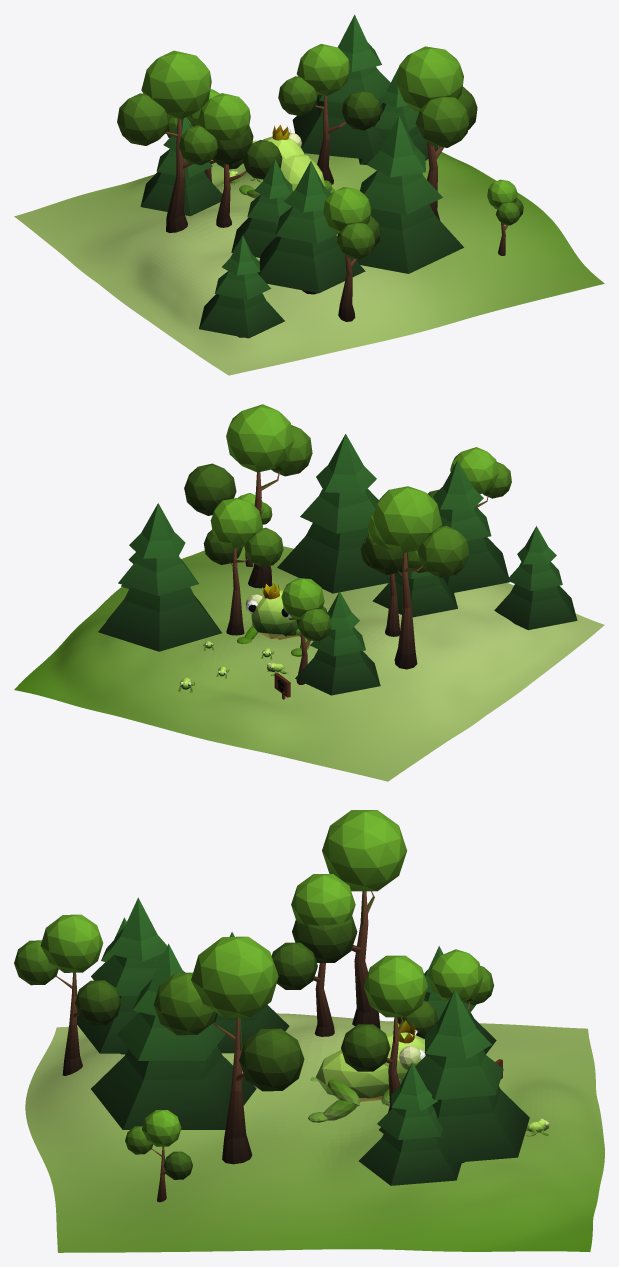
The model's file is lowpolytree.gltf.
The picture shows the model from 3 angles, top to bottom: view 1: azimuth 30°, elevation 25°; view 2: azimuth 150°, elevation 25°; view 3: azimuth 270°, elevation 25°; orthographic projection. The views are drawn at different scales.
Parts seen in each view (by area): view 1: Plane, fir tree.004, TREE.003, fir tree.006, TREE.004, fir tree.007, TREE, TREE.002, fir tree.005, TREE.005, fir tree.001, fir tree.003 (+4 smaller); view 2: Plane, fir tree.007, fir tree.004, TREE.003, TREE.004, fir tree.006, TREE, fir tree.005, fir tree.001, TREE.001, fir tree.003, FROG (+2 smaller); view 3: Plane, TREE.004, fir tree.004, fir tree.007, TREE.003, TREE.005, fir tree.002, TREE, TREE.002, fir tree.006, FROG, TREE.001 (+3 smaller).
Part boxes in pixels (left/top/right/bottom): Plane: left=14, top=152, right=604, bottom=375; fir tree.004: left=337, top=116, right=463, bottom=273; TREE.003: left=117, top=50, right=253, bottom=232; fir tree.006: left=257, top=161, right=365, bottom=294; TREE.004: left=397, top=46, right=477, bottom=219; fir tree.007: left=292, top=14, right=390, bottom=159; TREE: left=278, top=44, right=381, bottom=184; TREE.002: left=179, top=93, right=282, bottom=227; fir tree.005: left=199, top=235, right=284, bottom=338; TREE.005: left=323, top=187, right=380, bottom=321; fir tree.001: left=140, top=117, right=222, bottom=216; fir tree.003: left=231, top=159, right=292, bottom=257; Plane: left=14, top=546, right=604, bottom=781; fir tree.007: left=98, top=503, right=221, bottom=651; fir tree.004: left=277, top=434, right=389, bottom=593; TREE.003: left=364, top=486, right=469, bottom=669; TREE.004: left=184, top=404, right=312, bottom=588; fir tree.006: left=433, top=460, right=509, bottom=592; TREE: left=203, top=498, right=283, bottom=635; fir tree.005: left=494, top=526, right=577, bottom=630; fir tree.001: left=295, top=591, right=380, bottom=695; TREE.001: left=281, top=578, right=331, bottom=684; fir tree.003: left=372, top=567, right=457, bottom=617; FROG: left=237, top=590, right=310, bottom=656; Plane: left=25, top=1013, right=604, bottom=1252; TREE.004: left=154, top=936, right=304, bottom=1164; fir tree.004: left=91, top=943, right=256, bottom=1129; fir tree.007: left=379, top=989, right=529, bottom=1163; TREE.003: left=292, top=810, right=407, bottom=1029; TREE.005: left=14, top=914, right=121, bottom=1075; fir tree.002: left=359, top=1062, right=461, bottom=1185; TREE: left=341, top=955, right=428, bottom=1112; TREE.002: left=271, top=874, right=355, bottom=1036; fir tree.006: left=77, top=897, right=185, bottom=1054; FROG: left=308, top=1030, right=426, bottom=1122; TREE.001: left=397, top=949, right=494, bottom=1038.
Bounding box in the file's own units: 23.99 × 12.11 × 24.93.
20 materials, 19 textured.
